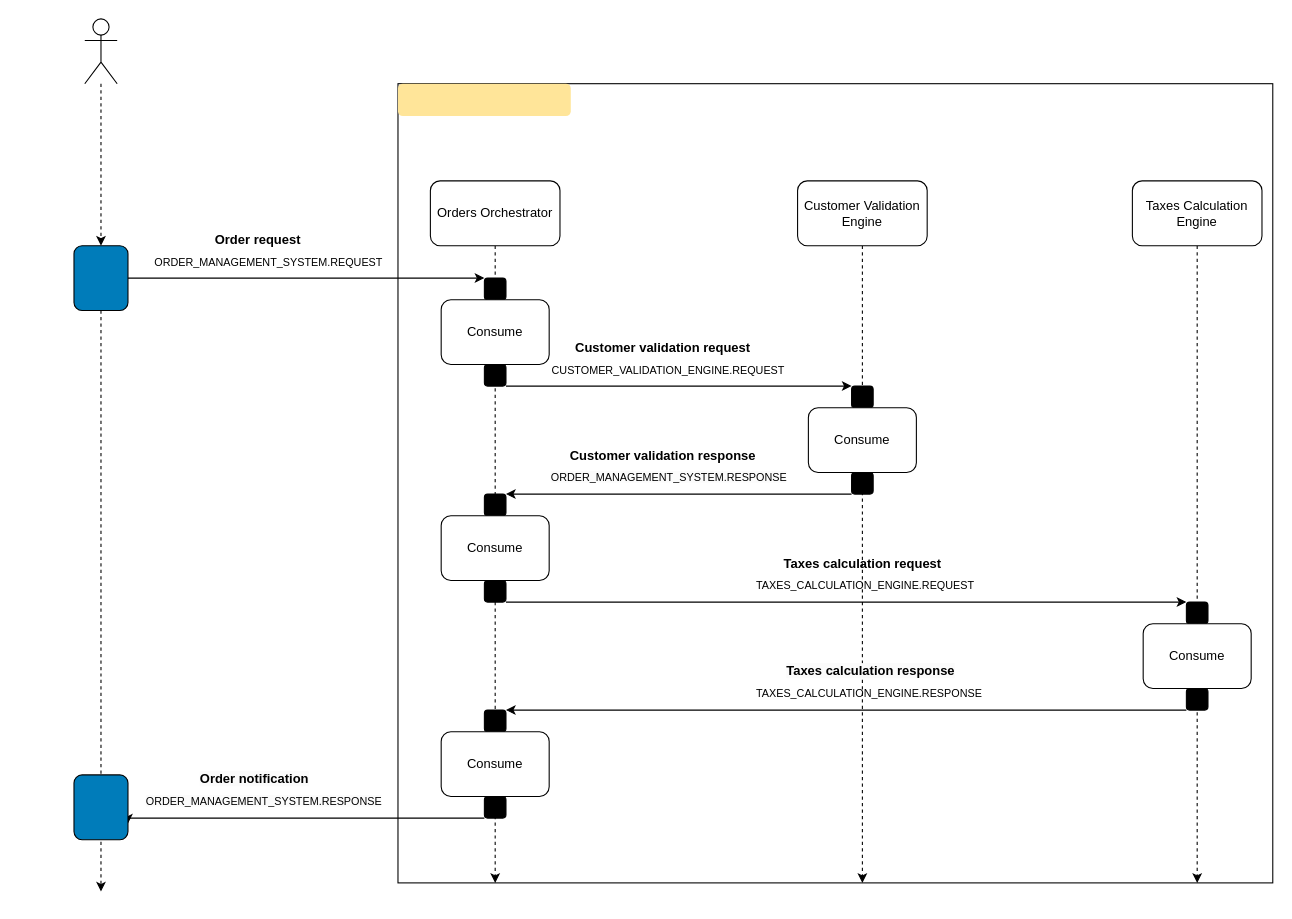
The diagram is 1292 pixels wide and 919 high, and some of its shapes have lost their labels. The shapes that lost their labels are listed below. From the top down, each one's centre as x and y in pixels, then its label:
(100,51): Orders Management System
(483,99): ORDER REQUEST SAGA
